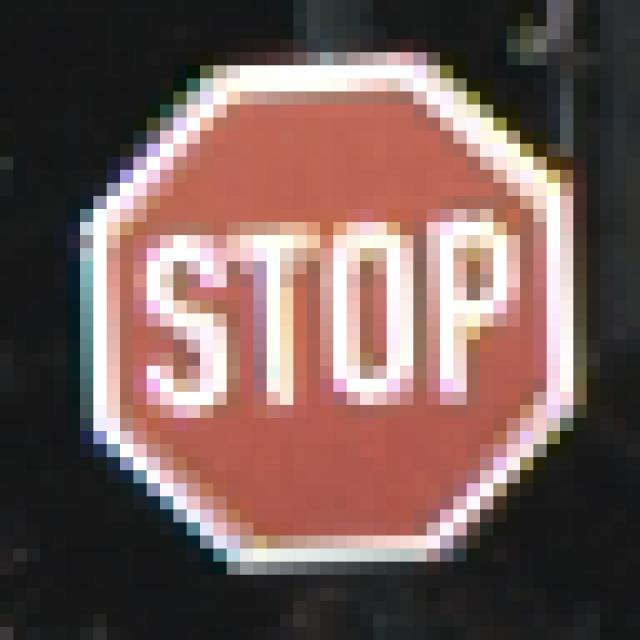STOP: (68, 66, 574, 576)
